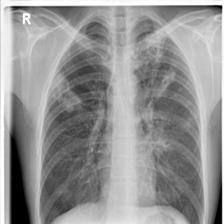tuberculosis: (33, 9, 211, 224)
